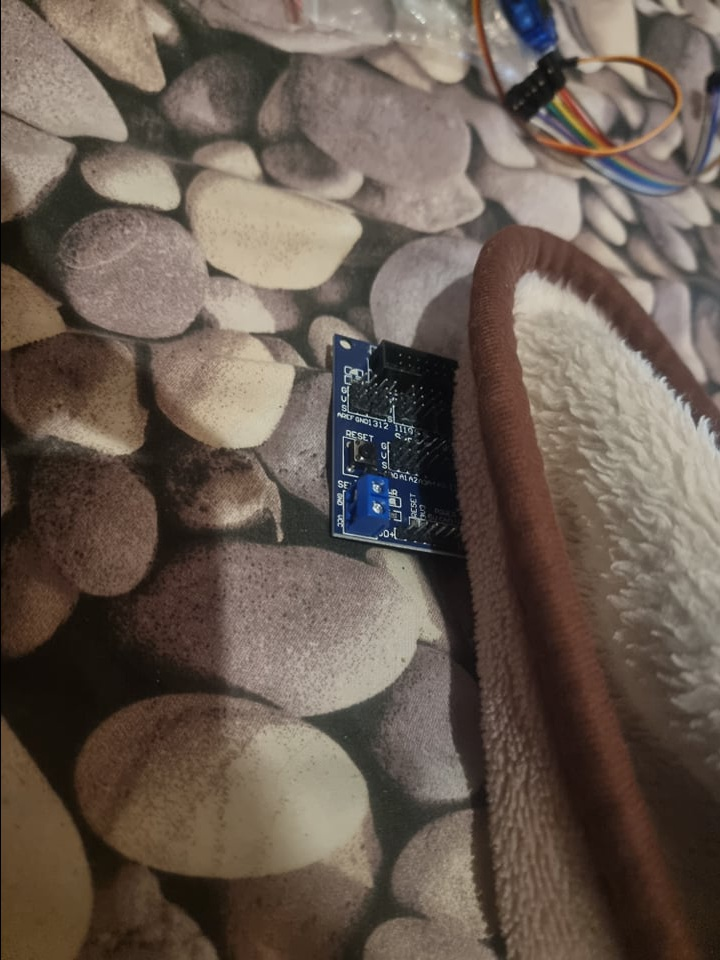5V EXPANSION: (327, 323, 464, 548)
